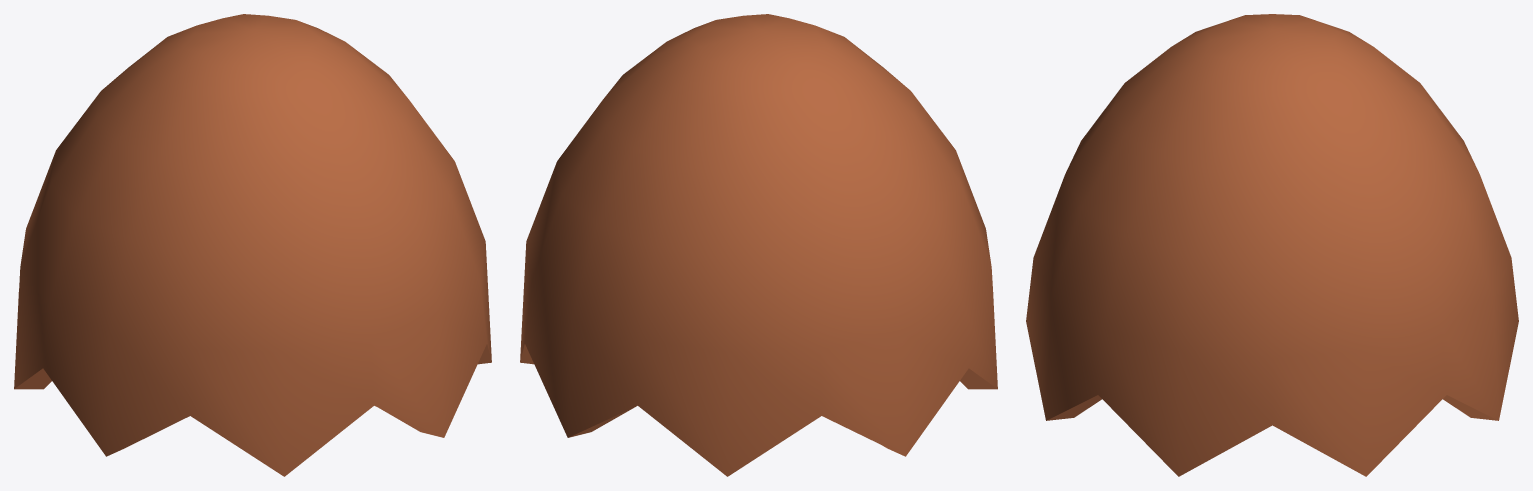
The model's file is Egg_Upper.fbx.
3 views of the same model, side by side, from view 1: azimuth 30°, elevation 25°; view 2: azimuth 150°, elevation 25°; view 3: azimuth 270°, elevation 25° (orthographic).
Parts seen in each view (by area): view 1: Egg_Upper; view 2: Egg_Upper; view 3: Egg_Upper.
Part boxes in pixels (x1,y1,x2,y2): Egg_Upper: [14, 14, 491, 476]; Egg_Upper: [520, 14, 997, 476]; Egg_Upper: [1026, 14, 1518, 476].
Size of the model in its own units: 9.68 by 7.66 by 9.68.
